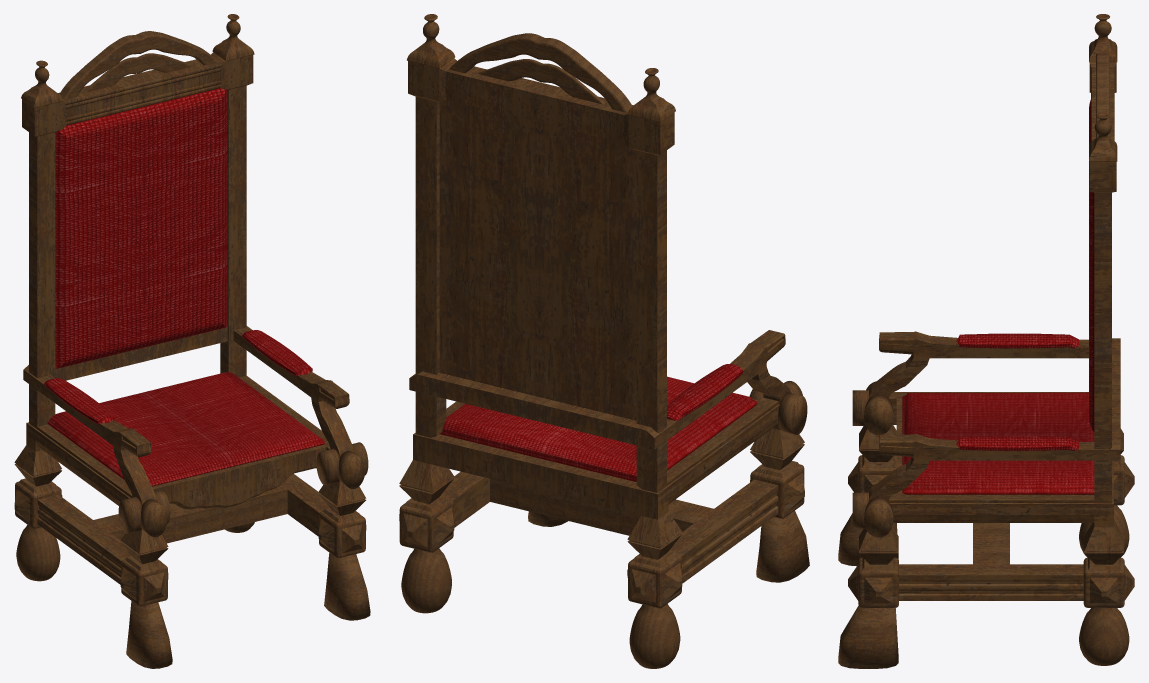
Rendered from royal_chair.glb.
The picture shows the model from 3 angles, left to right: view 1: azimuth 30°, elevation 25°; view 2: azimuth 150°, elevation 25°; view 3: azimuth 270°, elevation 25°; orthographic projection. The views are drawn at different scales.
Parts seen in each view (by area): view 1: Object_5, Object_3, Object_4; view 2: Object_5, Object_3, Object_4; view 3: Object_5, Object_3, Object_4.
Part boxes in pixels (bbox=[...]): Object_5: bbox=[14, 31, 366, 606]; Object_3: bbox=[44, 88, 324, 486]; Object_4: bbox=[16, 14, 370, 668]; Object_5: bbox=[399, 33, 804, 608]; Object_3: bbox=[440, 364, 757, 481]; Object_4: bbox=[401, 14, 809, 668]; Object_5: bbox=[848, 39, 1134, 607]; Object_3: bbox=[902, 100, 1099, 503]; Object_4: bbox=[838, 14, 1129, 668].
Bounding box in the file's own units: 6.6 × 13.42 × 6.58.
Materials: 2 (2 with a texture image).
